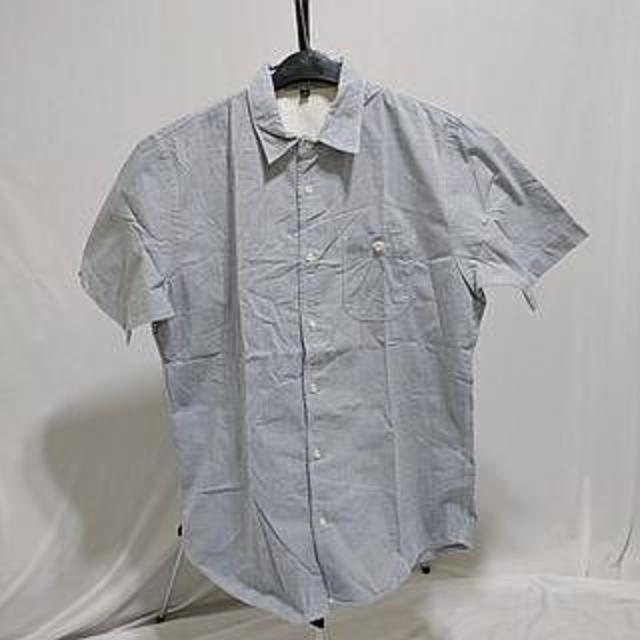SHIRT: (64, 47, 599, 630)
